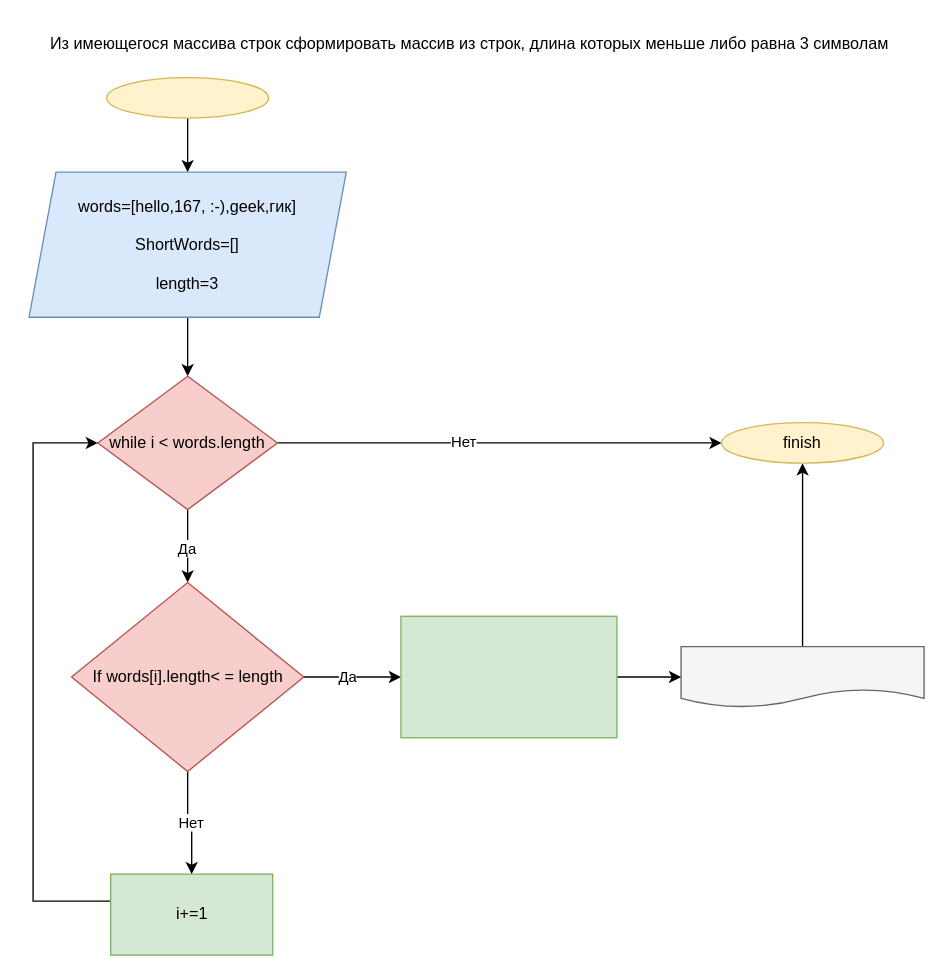
This 948x979 diagram has some shape labels left out. The box of each missing label's shape, as (x1, y1, x2, y2) in pixels:
print (ShortWords): (680, 645, 924, 707)
ShortWords+=words[i]: (400, 615, 617, 738)
start: (105, 76, 269, 118)
